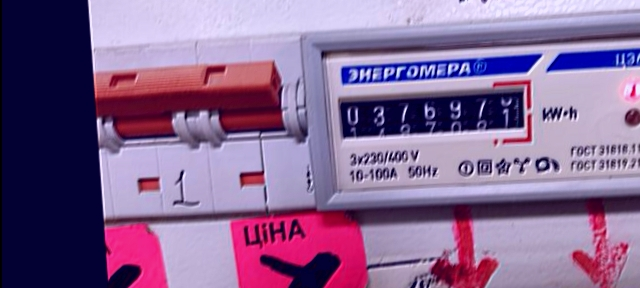0: (344, 105, 361, 128)
1: (500, 109, 513, 130)
3: (371, 106, 387, 130)
6: (423, 100, 437, 122)
7: (397, 101, 411, 126), (474, 97, 488, 121)
9: (448, 99, 462, 122)
screen: (331, 79, 538, 161)
